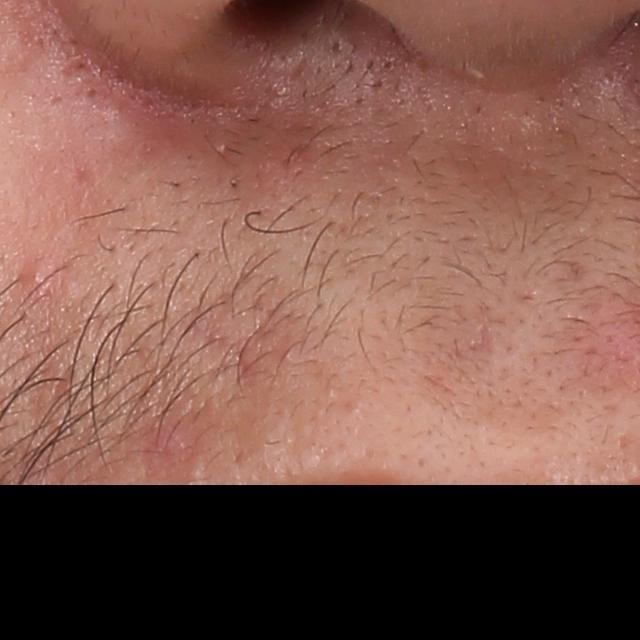papule: (21, 262, 53, 290)
